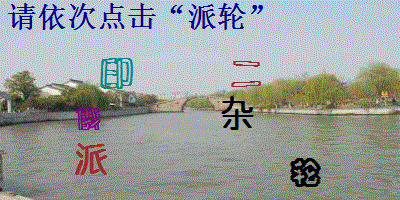result: (186, 2, 246, 32)
text: (219, 94, 256, 134), (73, 141, 109, 177), (98, 57, 134, 90), (288, 156, 321, 189), (229, 58, 263, 90), (75, 105, 103, 133)
